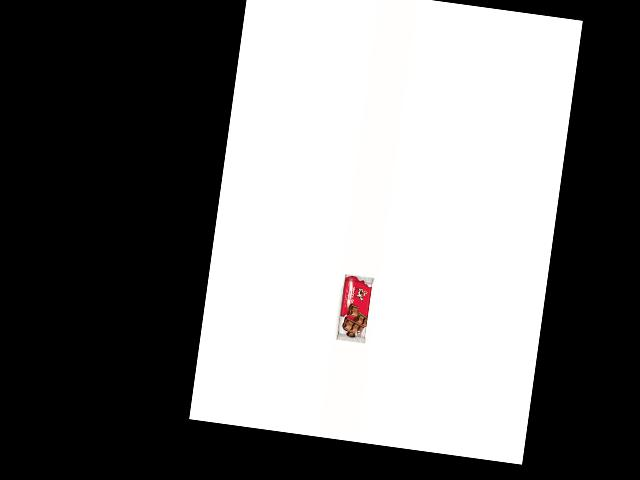chocolate: (330, 271, 376, 345)
